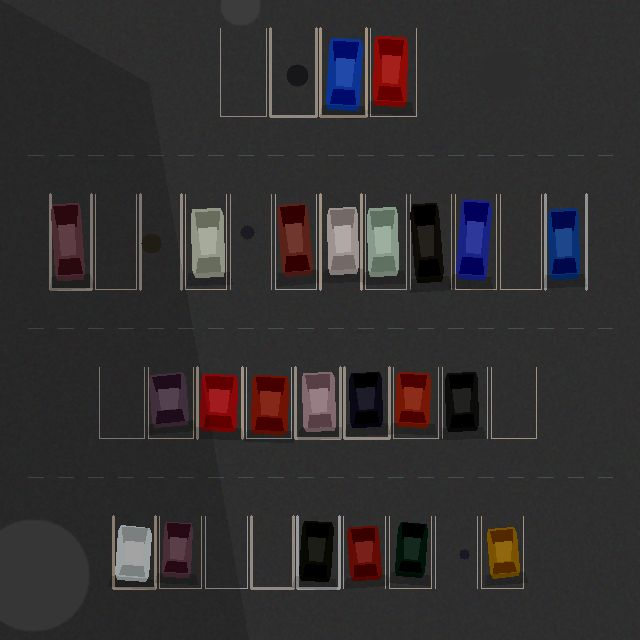space-empty: (220, 28, 266, 116), (270, 28, 316, 116), (95, 194, 136, 289), (140, 194, 181, 289), (230, 194, 271, 289), (500, 194, 541, 289), (99, 367, 144, 438), (491, 367, 536, 438), (205, 516, 247, 588), (251, 516, 293, 588), (435, 516, 477, 588)
space-occupied: (320, 28, 366, 116), (370, 28, 416, 116), (50, 194, 91, 289), (185, 194, 226, 289), (275, 194, 316, 289), (320, 194, 361, 289), (365, 194, 406, 289), (410, 194, 451, 289), (455, 194, 496, 289), (545, 194, 586, 289), (148, 367, 193, 438), (197, 367, 242, 438), (246, 367, 291, 438), (295, 367, 340, 438), (344, 367, 389, 438), (393, 367, 438, 438), (442, 367, 487, 438), (113, 516, 155, 588), (159, 516, 201, 588), (297, 516, 339, 588), (343, 516, 385, 588), (389, 516, 431, 588), (481, 516, 523, 588)
